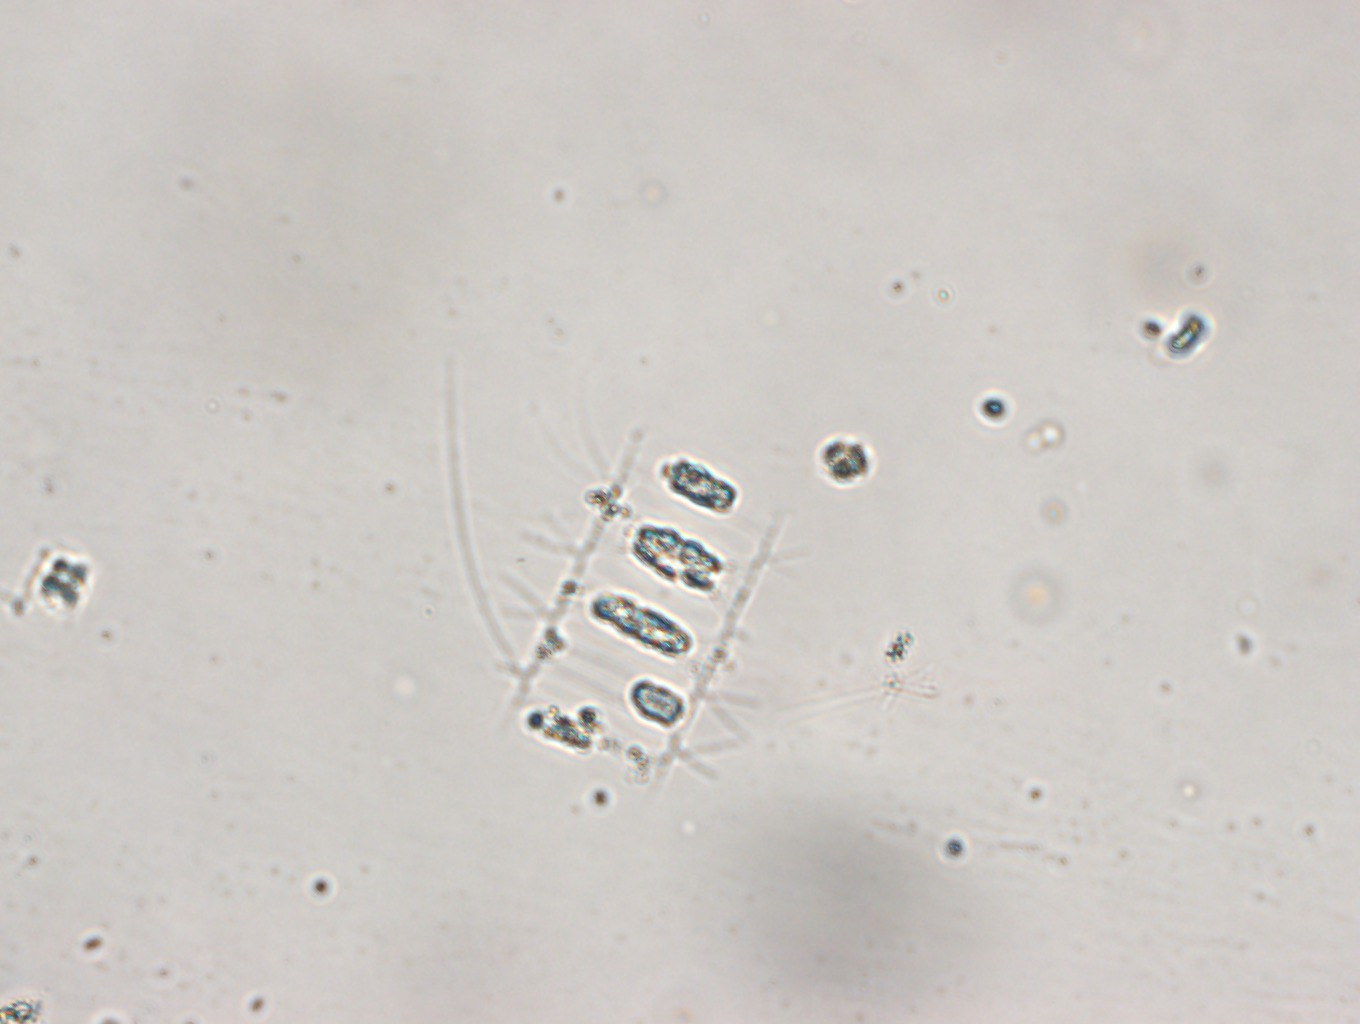chaetoceros: (426, 372, 807, 786)
